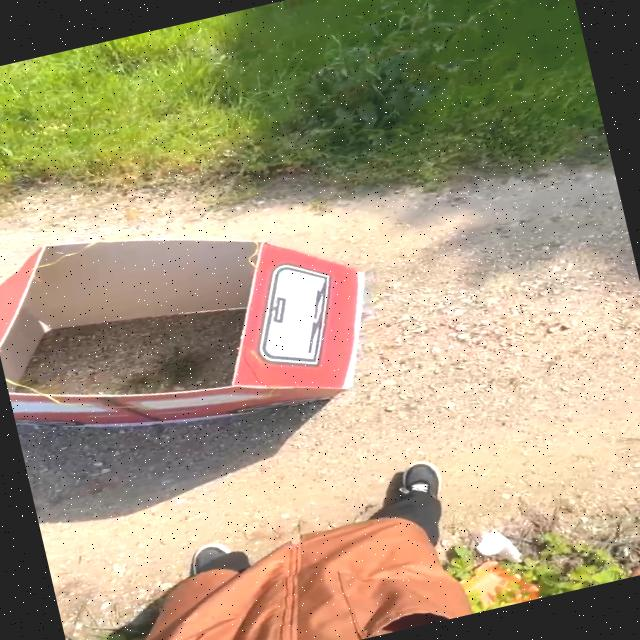red_car: (0, 155, 415, 511)
